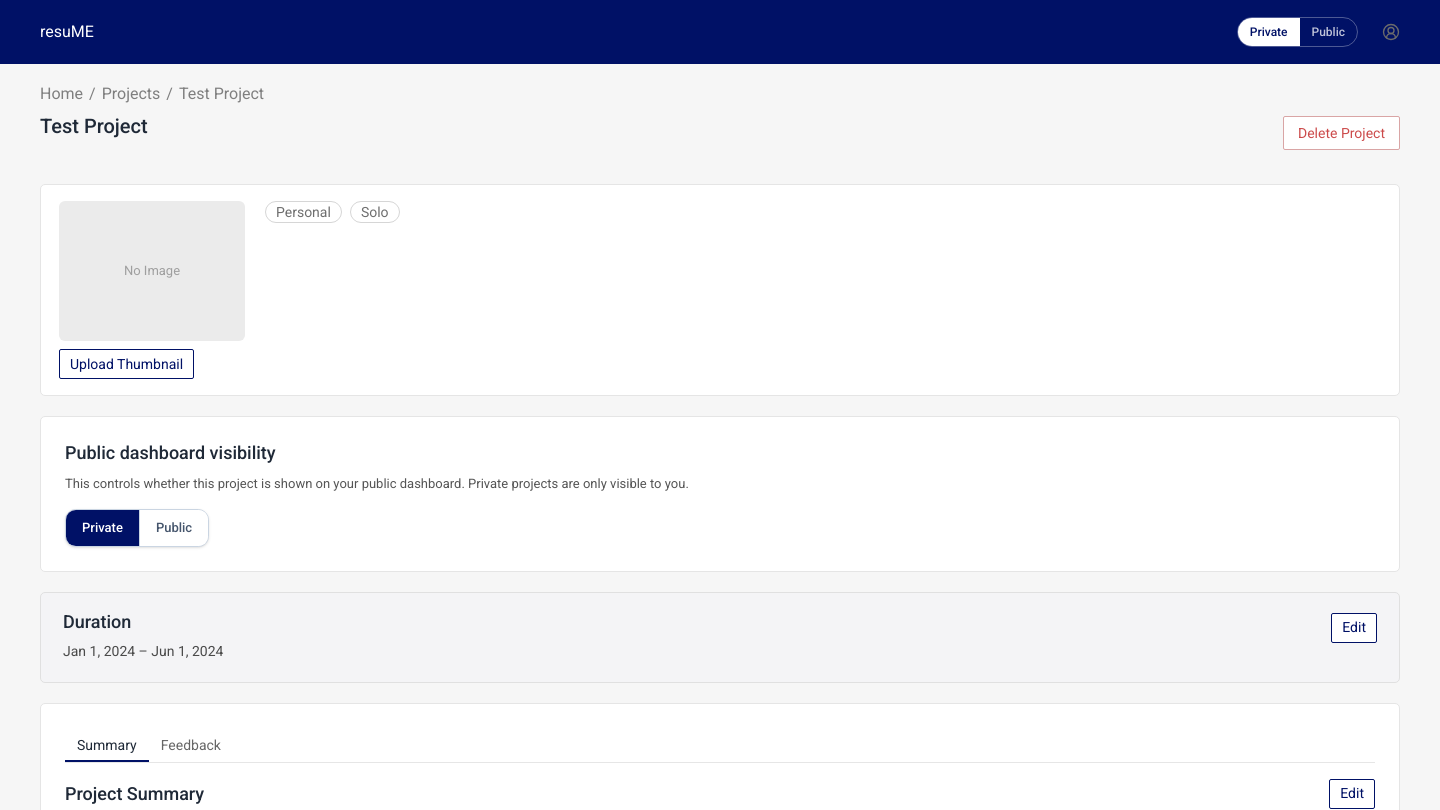
Test: ProjectDetailPage › feedback display › renders feedback grouped by skill
The image size is (1440, 810).
Step 1. Click the button "Feedback" → (191, 745), box [149,728,233,762]
(page scrolled)
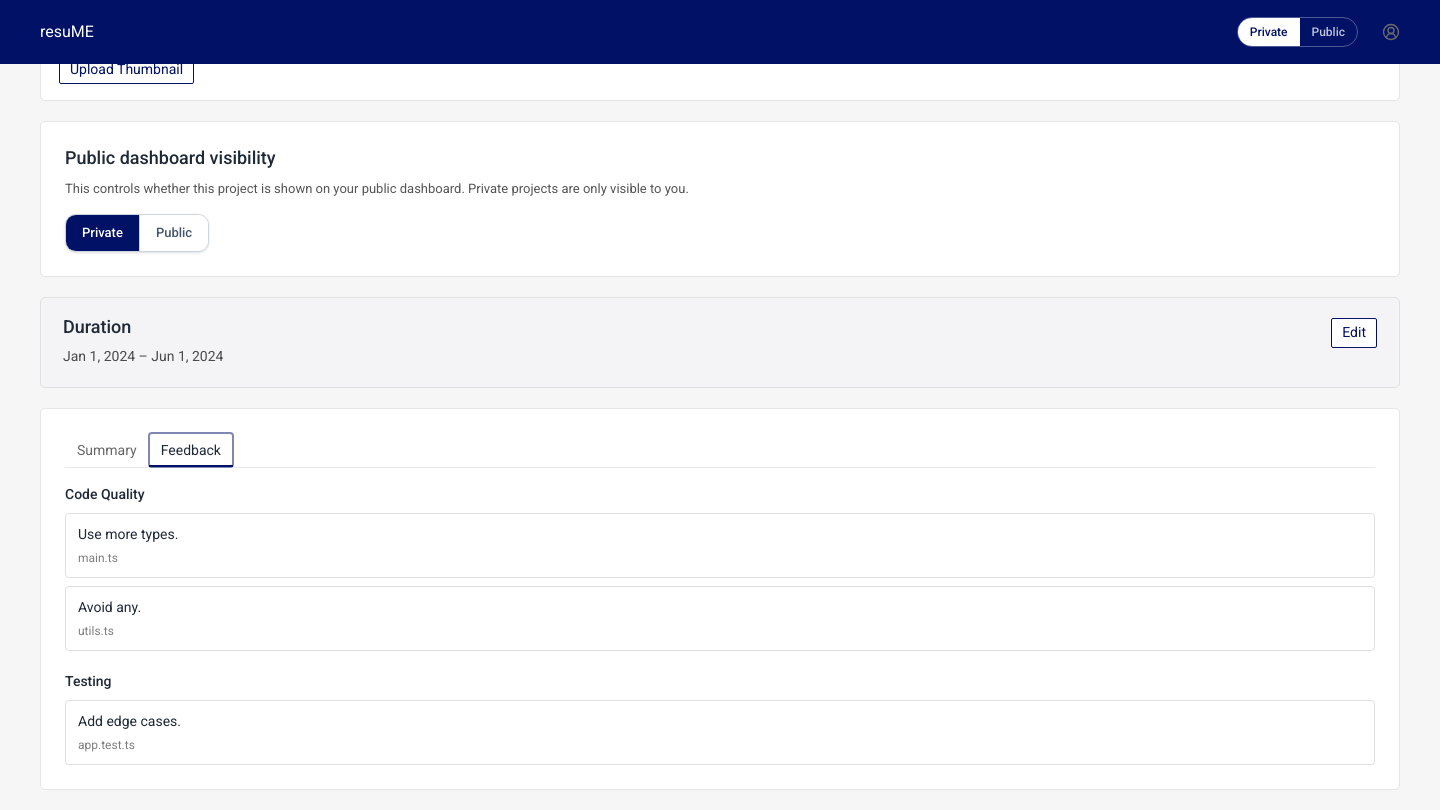
Expected: the text "Code Quality" is shown, [65,486,145,502]
Expected: the text "Testing" is shown, [65,673,112,689]
Expected: the text "Use more types." is shown, [78,526,178,542]
